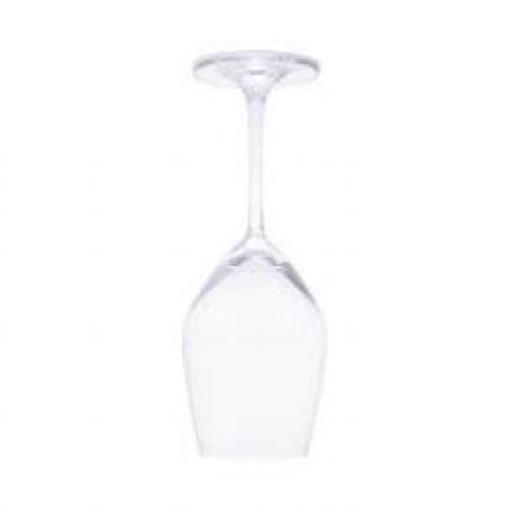glass: (182, 57, 325, 462)
